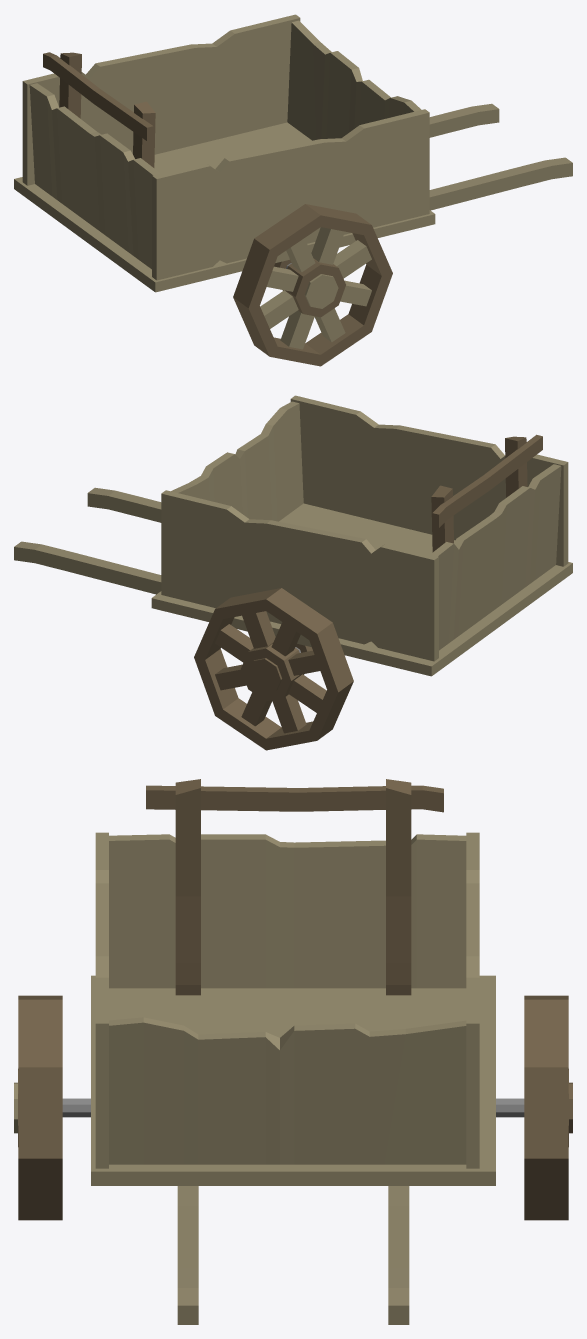
Rendered from BosYukArabas.fbx.
The picture shows the model from 3 angles, top to bottom: view 1: azimuth 30°, elevation 25°; view 2: azimuth 150°, elevation 25°; view 3: azimuth 270°, elevation 25°; orthographic projection. The views are drawn at different scales.
Visible parts, largest first — view 1: Cube.002; view 2: Cube.002; view 3: Cube.002.
Boxes of the visible parts, x1,y1,x2,y2 form: Cube.002: (14,14,572,366); Cube.002: (14,395,572,750); Cube.002: (14,779,572,1324).
Size of the model in its own units: 583 by 305 by 440.
